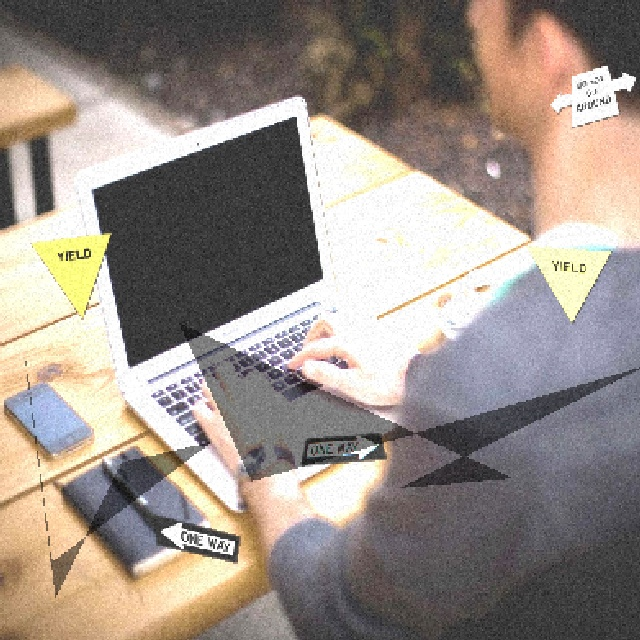DO_NOT_GO_AROUND: (548, 63, 636, 127)
ONE_WAY_ left: (151, 512, 239, 562)
ONE_WAY_ right: (298, 431, 386, 465)
YIELD: (28, 231, 111, 319), (523, 243, 611, 323)
